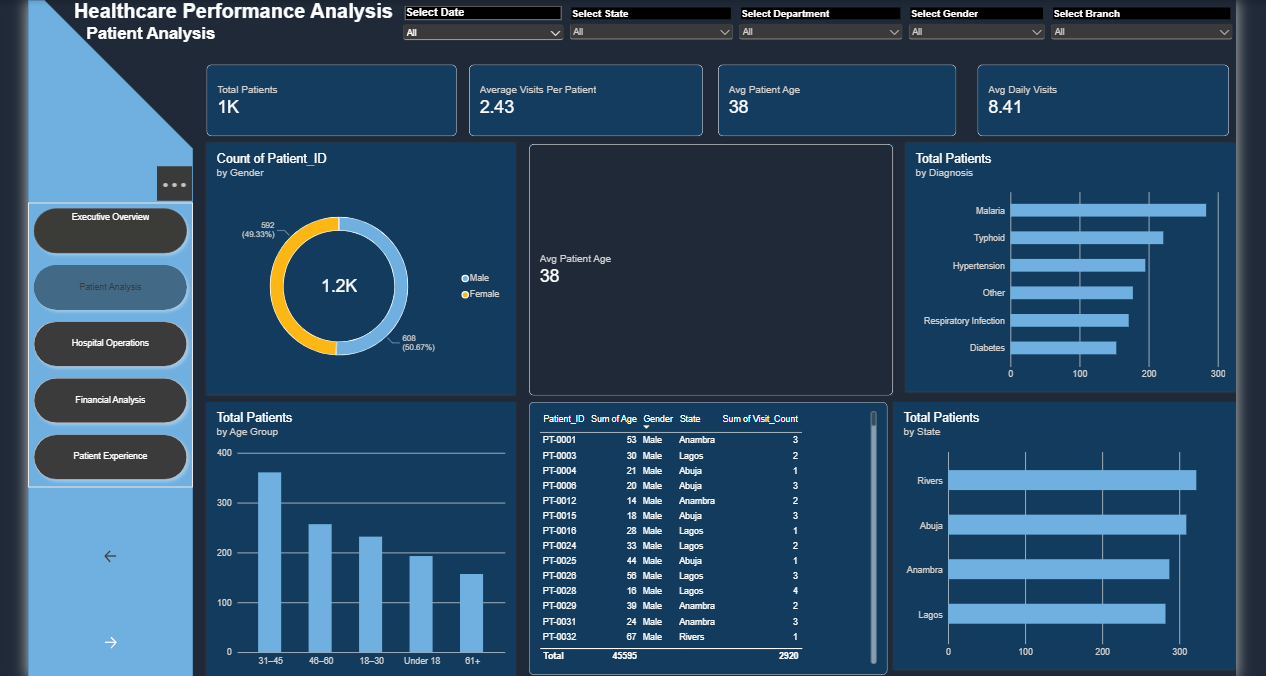

What the dashboard file says about the page in this screenshot:
{"tool":"powerbi","page":{"name":"Patient Analysis","canvas":[1920,1080],"ordinal":1},"visuals":[{"type":"clusteredColumnChart","fields":{"Category":["Patient_Visits.Age Group"],"Y":["Date_Table.Total Patients"]},"box":[283.9,639.4,491.5,439],"z":0},{"type":"donutChart","fields":{"Category":["Patient_Visits.Gender"],"Y":["CountNonNull(Patient_Visits.Patient_ID)"]},"box":[283.9,226.7,491.5,400.8],"z":1000},{"type":"clusteredBarChart","fields":{"Category":["Patient_Visits.Diagnosis"],"Y":["Date_Table.Total Patients"]},"box":[1395.1,226.7,524.9,396.1],"z":2000},{"type":"clusteredBarChart","fields":{"Category":["Patient_Visits.State"],"Y":["Date_Table.Total Patients"]},"box":[1376.7,639.4,544,424.7],"z":3000},{"type":"textbox","box":[42.9,0,567.8,93.1],"z":4000},{"type":"textbox","box":[93.1,38.2,252.9,45.3],"z":5000},{"type":"shape","box":[0,0,262.5,1080.8],"z":6000},{"type":"pageNavigator","box":[0,322.1,262.5,453.3],"z":7000},{"type":"slicer","fields":{"Values":["Patient_Visits.State"]},"box":[856.5,11.9,269.6,85.9],"z":8000},{"type":"slicer","fields":{"Values":["Patient_Visits.Department"]},"box":[1126.2,11.9,269.6,52.5],"z":9000},{"type":"slicer","fields":{"Values":["Date_Table.Date"]},"box":[591.7,9.5,264.8,76.3],"z":10000},{"type":"slicer","fields":{"Values":["Patient_Visits.Gender"]},"box":[1395.8,11.9,226.7,76.3],"z":11000},{"type":"slicer","fields":{"Values":["Patient_Visits.Branch"]},"box":[1621.8,11.9,298.2,74],"z":12000},{"type":"cardVisual","fields":{"Data":["Date_Table.Total Patients"]},"box":[283.9,102.6,398.4,114.5],"z":13000},{"type":"cardVisual","fields":{"Data":["Date_Table.Average Visits Per Patient"]},"box":[701.5,102.6,372.2,114.5],"z":14000},{"type":"cardVisual","fields":{"Data":["Date_Table.Average Patient Age"]},"box":[1097.5,102.6,379.4,114.5],"z":15000},{"type":"cardVisual","fields":{"Data":["Date_Table.Average Daily Visits"]},"box":[1510.3,102.6,400.8,114.5],"z":16000},{"type":"tableEx","fields":{"Values":["Patient_Visits.Patient_ID","Sum(Patient_Visits.Age)","Patient_Visits.Gender","Patient_Visits.State","Sum(Patient_Visits.Visit_Count)"]},"box":[796.9,639.4,570.2,434.2],"z":17000},{"type":"cardVisual","fields":{"Data":["Date_Table.Average Patient Age"]},"box":[796.9,229,579.8,400.8],"z":18000},{"type":"actionButton","box":[0,966.3,262.5,112.1],"z":19000},{"type":"actionButton","box":[0,818.4,262.5,133.6],"z":20000}]}

Visuals, with their boxes on the page's 1920x1080 design canvas (x1, y1, x2, y2). These are canvas units, not pixel positions in the 1266x676 screenshot, which may show the page scaled, cropped or inside an application window:
clusteredColumnChart - Patient_Visits.Age Group x Date_Table.Total Patients: bbox(284, 639, 775, 1078)
donutChart - Patient_Visits.Gender x CountNonNull(Patient_Visits.Patient_ID): bbox(284, 227, 775, 628)
clusteredBarChart - Patient_Visits.Diagnosis x Date_Table.Total Patients: bbox(1395, 227, 1920, 623)
clusteredBarChart - Patient_Visits.State x Date_Table.Total Patients: bbox(1377, 639, 1921, 1064)
textbox: bbox(43, 0, 611, 93)
textbox: bbox(93, 38, 346, 84)
shape: bbox(0, 0, 262, 1081)
pageNavigator: bbox(0, 322, 262, 775)
slicer - Patient_Visits.State: bbox(856, 12, 1126, 98)
slicer - Patient_Visits.Department: bbox(1126, 12, 1396, 64)
slicer - Date_Table.Date: bbox(592, 10, 856, 86)
slicer - Patient_Visits.Gender: bbox(1396, 12, 1622, 88)
slicer - Patient_Visits.Branch: bbox(1622, 12, 1920, 86)
cardVisual - Date_Table.Total Patients: bbox(284, 103, 682, 217)
cardVisual - Date_Table.Average Visits Per Patient: bbox(702, 103, 1074, 217)
cardVisual - Date_Table.Average Patient Age: bbox(1098, 103, 1477, 217)
cardVisual - Date_Table.Average Daily Visits: bbox(1510, 103, 1911, 217)
tableEx - Patient_Visits.Patient_ID x Sum(Patient_Visits.Age): bbox(797, 639, 1367, 1074)
cardVisual - Date_Table.Average Patient Age: bbox(797, 229, 1377, 630)
actionButton: bbox(0, 966, 262, 1078)
actionButton: bbox(0, 818, 262, 952)
